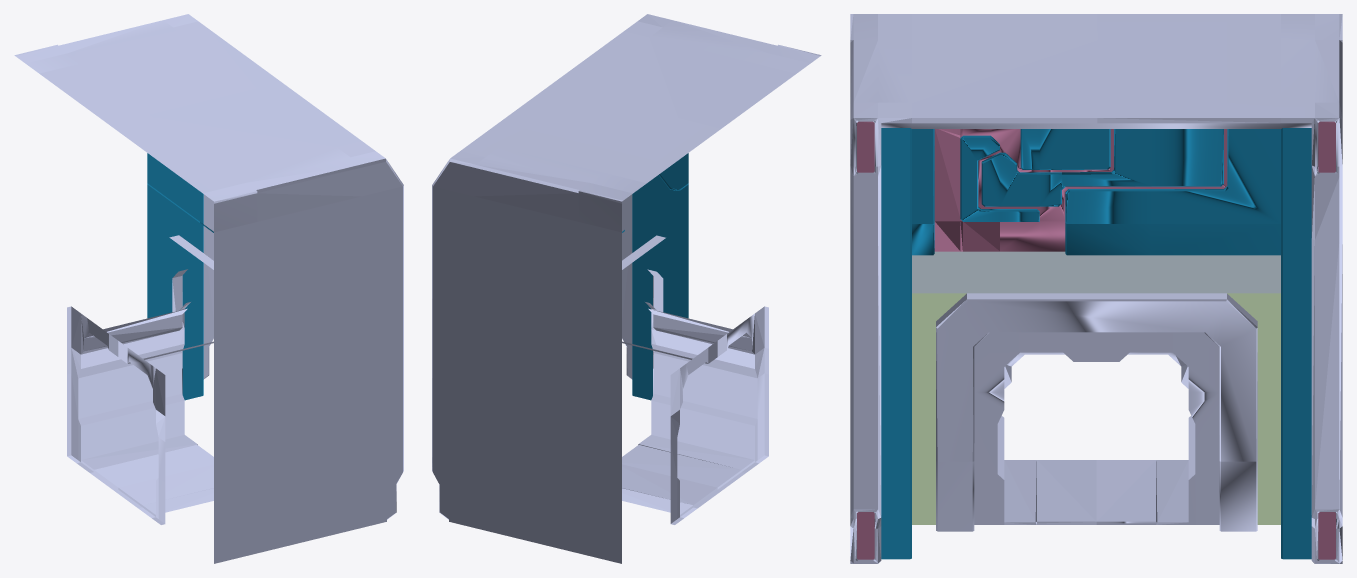
The model's file is uee_stanton_kit_ext_exit_4x8x8_01_reg.glb.
3 renders of one model, left to right at view 1: azimuth 30°, elevation 25°; view 2: azimuth 150°, elevation 25°; view 3: azimuth 270°, elevation 25°, orthographic. The views are drawn at different scales.
Bounding box in the file's own units: 4.41 × 8 × 8.
